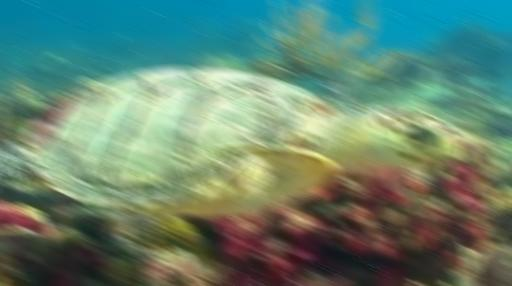Fish: (0, 67, 460, 216)
